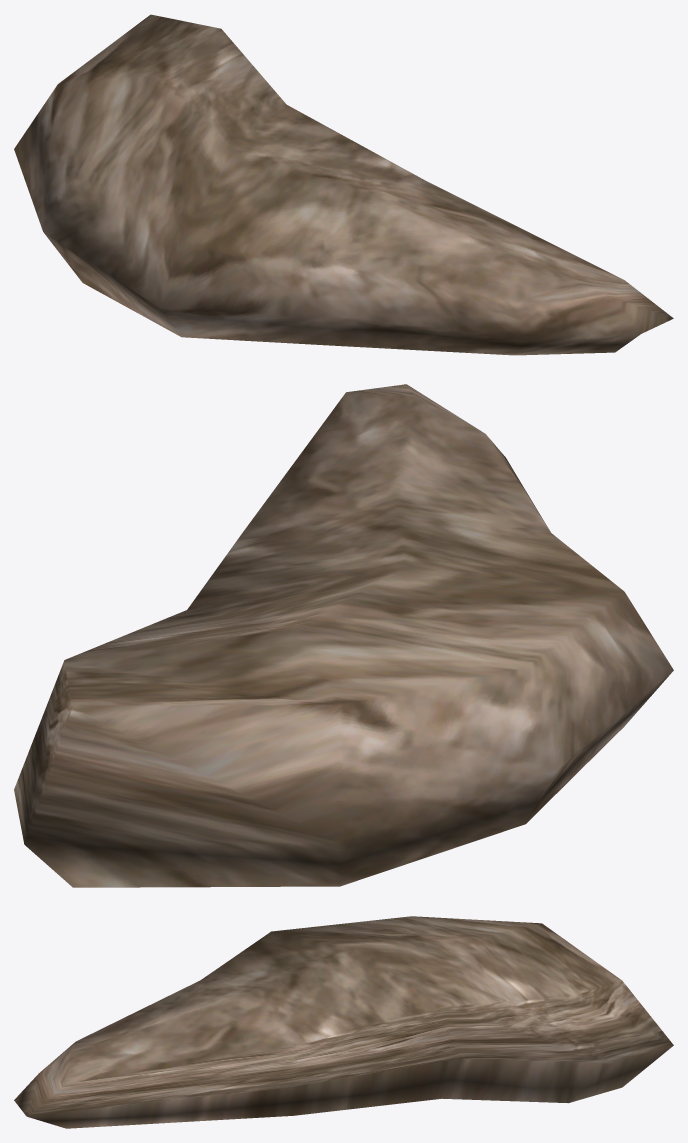
File: OVERHILL_A_01_LINE307.fbx
The picture shows the model from 3 angles, top to bottom: view 1: azimuth 30°, elevation 25°; view 2: azimuth 150°, elevation 25°; view 3: azimuth 270°, elevation 25°; orthographic projection. The views are drawn at different scales.
Visible parts, largest first — view 1: OVERHILL_A_01_LINE307; view 2: OVERHILL_A_01_LINE307; view 3: OVERHILL_A_01_LINE307.
Part boxes in pixels (<box>): OVERHILL_A_01_LINE307: <box>14,14,673,355</box>; OVERHILL_A_01_LINE307: <box>14,384,673,887</box>; OVERHILL_A_01_LINE307: <box>14,916,673,1128</box>.
Bounding box in the file's own units: 35633 × 12546 × 62567.
Materials: 1 (1 with a texture image).
